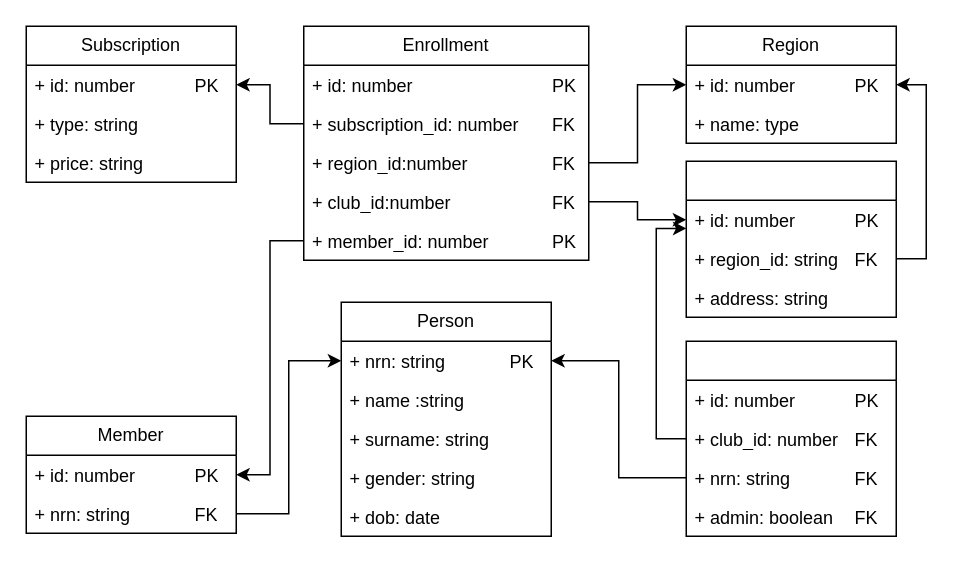
Some shapes in this 965 by 567 pixel diagram are drawn without their labels. Each missing label, with the box of its shape:
Club: (685, 160, 896, 317)
Employee: (685, 340, 896, 536)
